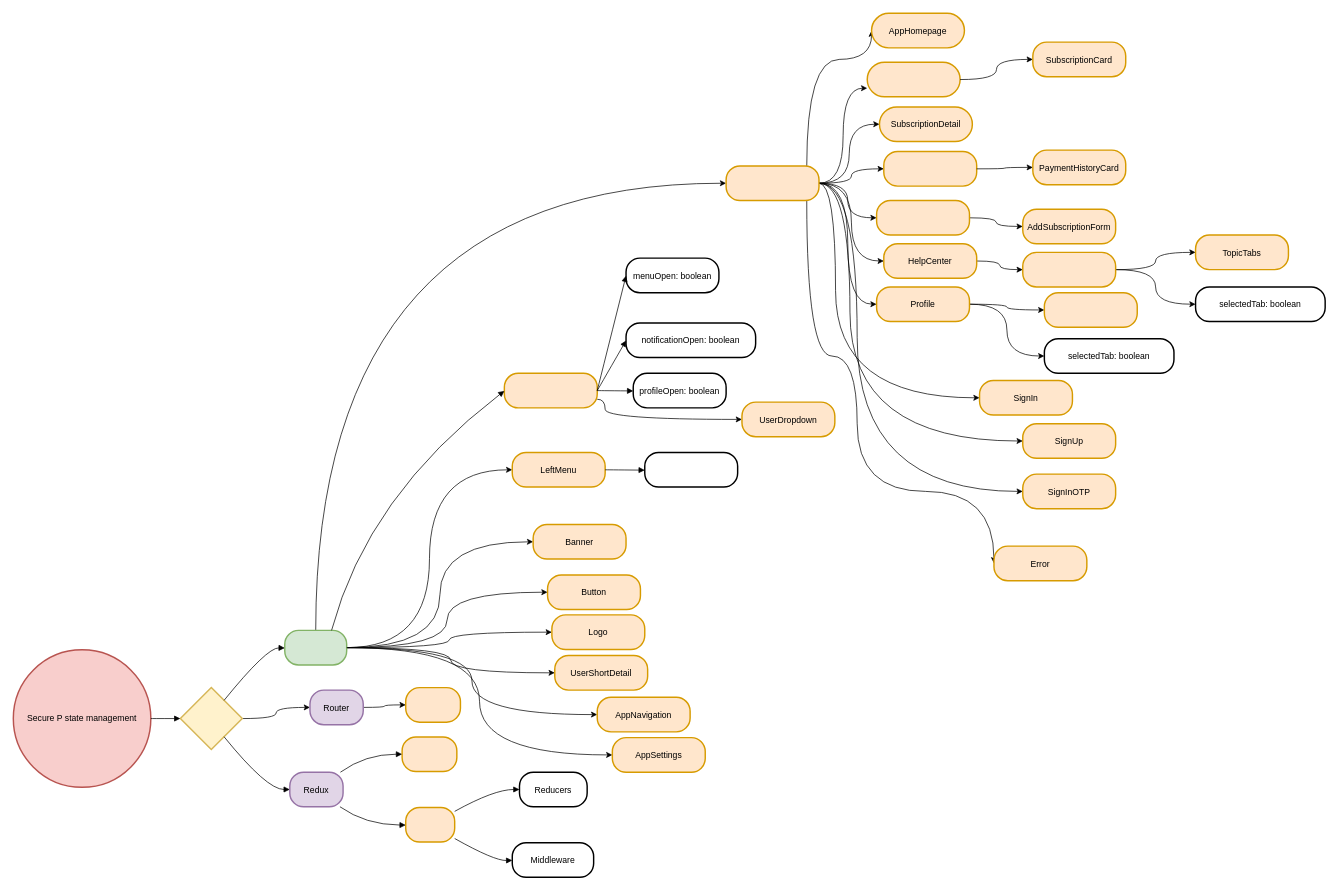
Image size: 1338x890. Some labels were removed from this diagram. Here are the shapes that lost their labels. From the top down, the centre of each, then its label:
At [913,79]: "Subscription".
At [772,183]: "AppLayout".
At [930,168]: "PaymentHistory".
At [923,217]: "AddNew".
At [1069,269]: "HelpCenterTabs".
At [1090,310]: "ProfileForm".
At [550,390]: "Header".
At [691,469]: "activeTab: string".
At [315,647]: "Local State".
At [211,718]: "State".
At [433,705]: "Router State".
At [429,754]: "Action".
At [430,824]: "Store".
